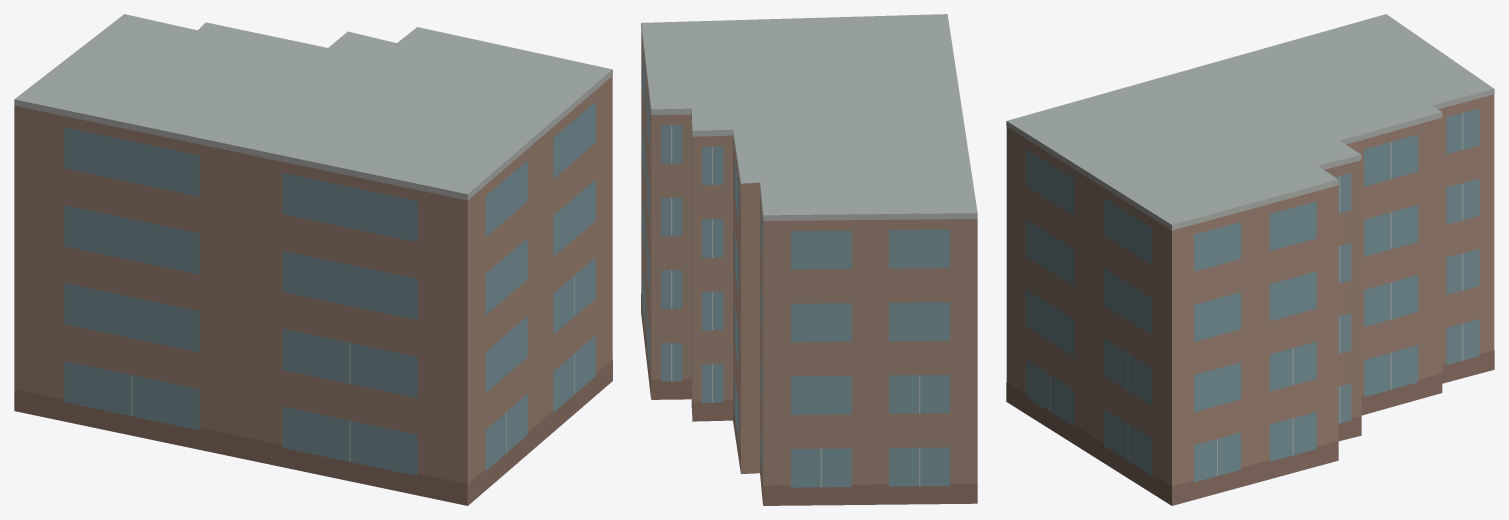
Rendered from survey-upis-32979914.glb.
The picture shows the model from 3 angles, left to right: view 1: azimuth 30°, elevation 25°; view 2: azimuth 150°, elevation 25°; view 3: azimuth 270°, elevation 25°; orthographic projection. The views are drawn at different scales.
Parts seen in each view (by area): view 1: survey-upis-32979914.tmp; view 2: survey-upis-32979914.tmp; view 3: survey-upis-32979914.tmp.
Boxes of the visible parts, bbox=[...] form: survey-upis-32979914.tmp: bbox=[14, 14, 612, 505]; survey-upis-32979914.tmp: bbox=[641, 14, 977, 505]; survey-upis-32979914.tmp: bbox=[1006, 14, 1494, 505].
Bounding box in the file's own units: 19.82 × 12.3 × 19.37.
